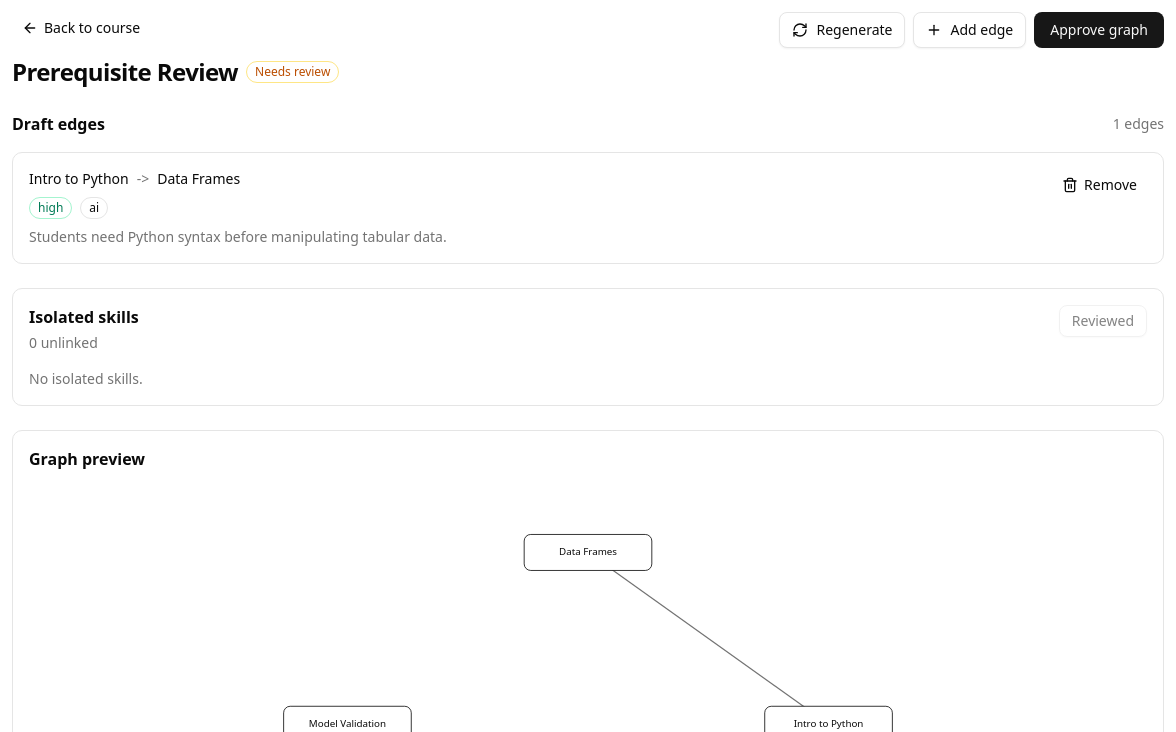
Test: PrerequisiteReviewPage › shows a clear approved state after approval succeeds
The width and height of the screenshot is (1176, 732).
Expected: the heading "Prerequisite Review" is shown, [12,56,238,88]
Click the button "Approve graph".
click(1099, 30)  # box [1034,12,1164,48]
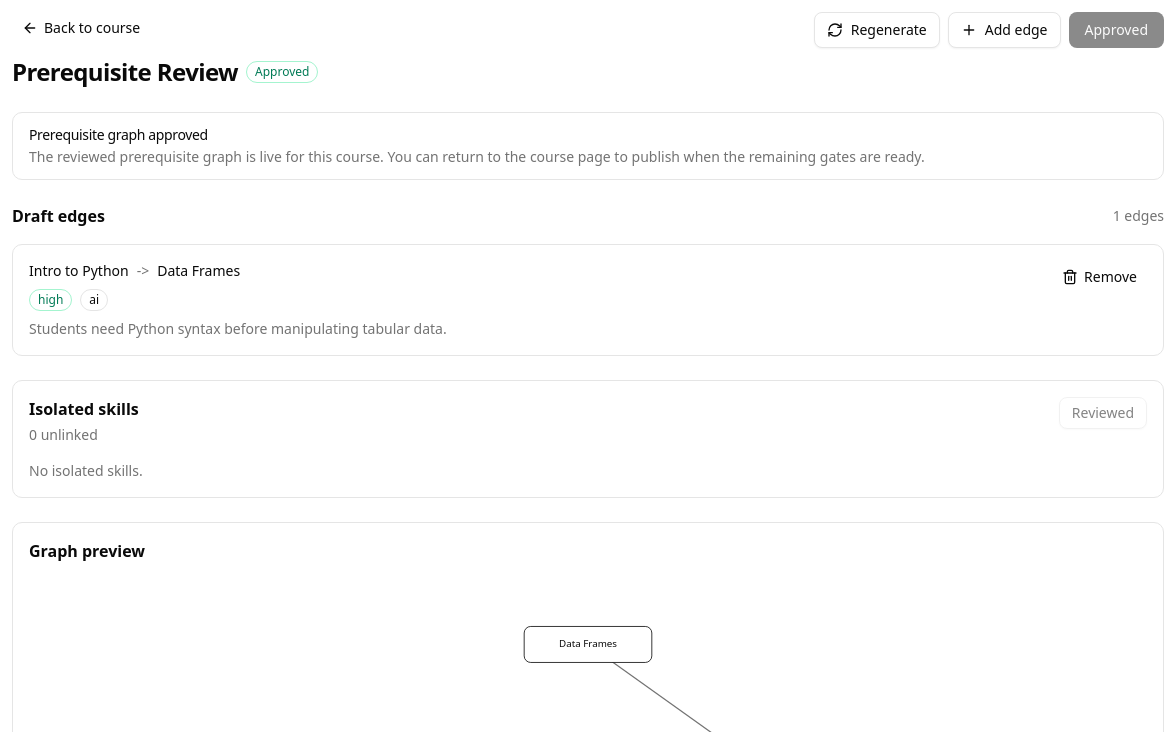
Result: the heading "Prerequisite graph approved" is shown at [29,125,208,144]
Result: the button "Approved" is disabled at [1068,12,1164,48]
